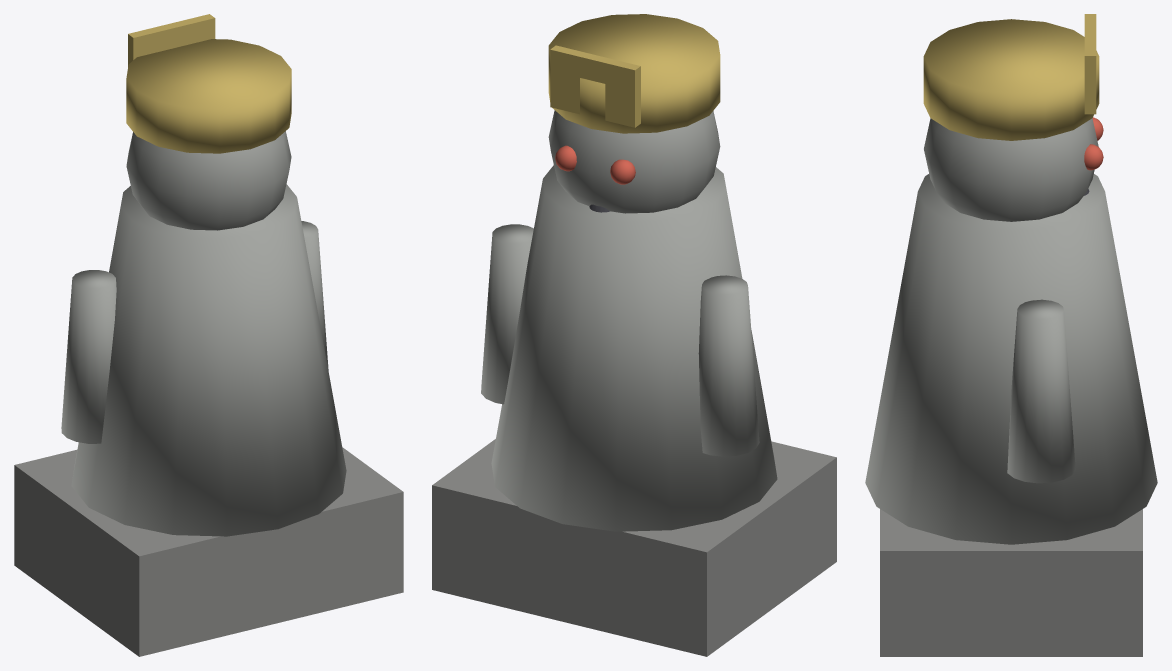
Rendered from prop_enma.glb.
3 renders of one model, left to right at view 1: azimuth 30°, elevation 25°; view 2: azimuth 150°, elevation 25°; view 3: azimuth 270°, elevation 25°, orthographic. The views are drawn at different scales.
Parts seen in each view (by area): view 1: enma; view 2: enma; view 3: enma.
Part boxes in pixels (bbox=[...]): enma: bbox=[14, 14, 403, 656]; enma: bbox=[432, 14, 836, 656]; enma: bbox=[865, 14, 1157, 656].
Size of the model in its own units: 1.1 by 2.09 by 1.
